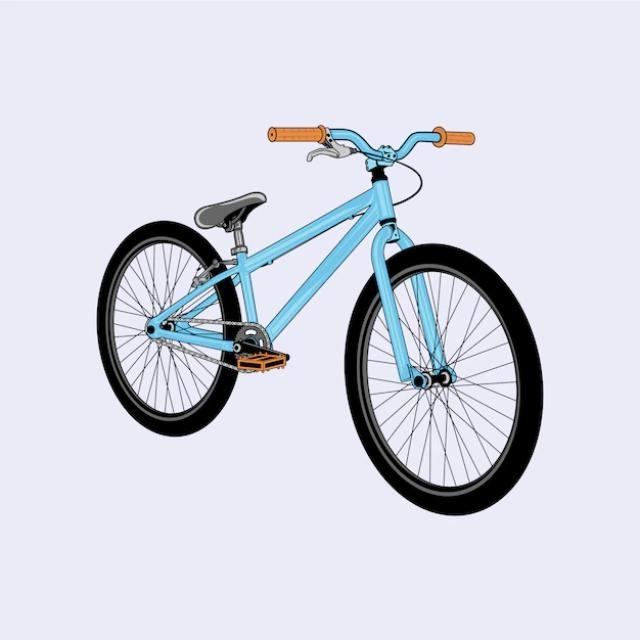obstacle: (61, 88, 570, 550)
